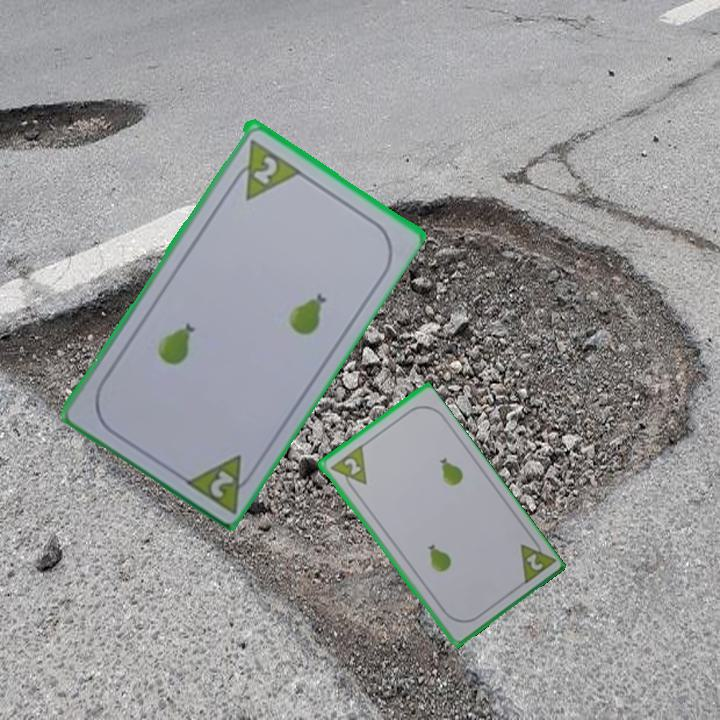2p: (326, 442, 370, 495), (516, 532, 557, 588), (249, 152, 280, 187), (206, 466, 237, 501)
